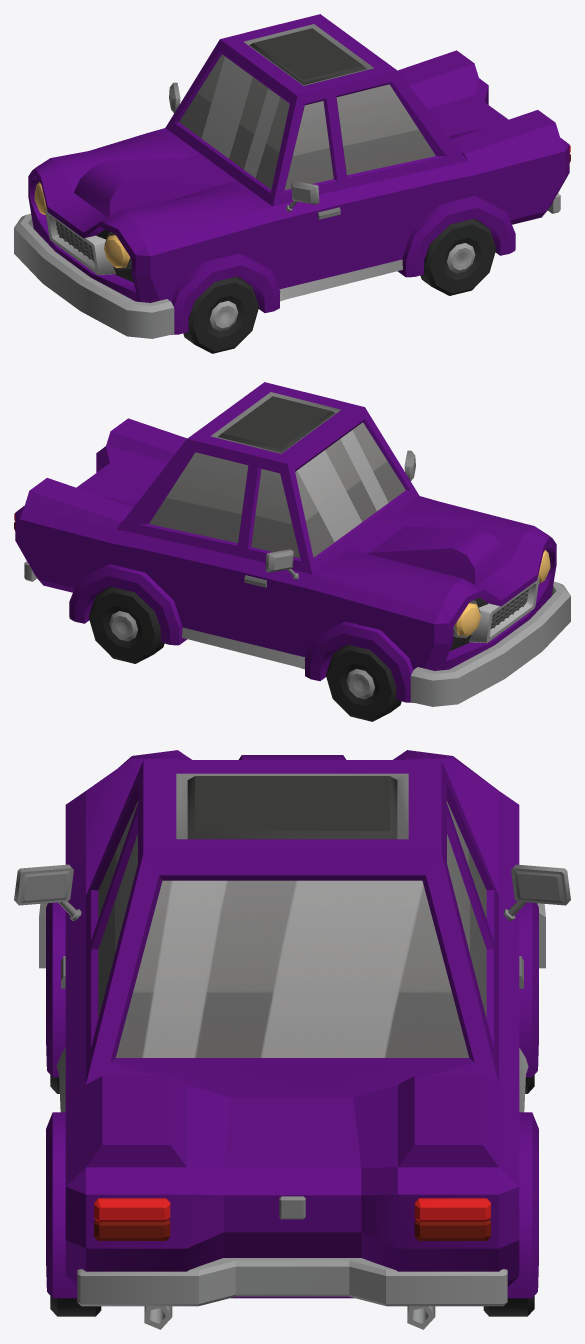
File: Car_17_C.gltf
3 views of the same model, one above another, from view 1: azimuth 30°, elevation 25°; view 2: azimuth 150°, elevation 25°; view 3: azimuth 270°, elevation 25° (orthographic). The views are drawn at different scales.
Parts seen in each view (by area): view 1: Car_17_C, RL, FL; view 2: Car_17_C, RR, FR; view 3: Car_17_C, RL, RR.
Boxes of the visible parts, x1,y1,x2,y2 form: Car_17_C: [14, 14, 570, 338]; RL: [420, 218, 496, 295]; FL: [183, 276, 258, 353]; Car_17_C: [14, 382, 570, 706]; RR: [88, 586, 164, 663]; FR: [326, 644, 401, 721]; Car_17_C: [14, 750, 570, 1329]; RL: [50, 1296, 101, 1316]; RR: [483, 1296, 534, 1316].
Size of the model in its own units: 3.39 by 1.53 by 1.85.
Materials: 4 (4 with a texture image).
